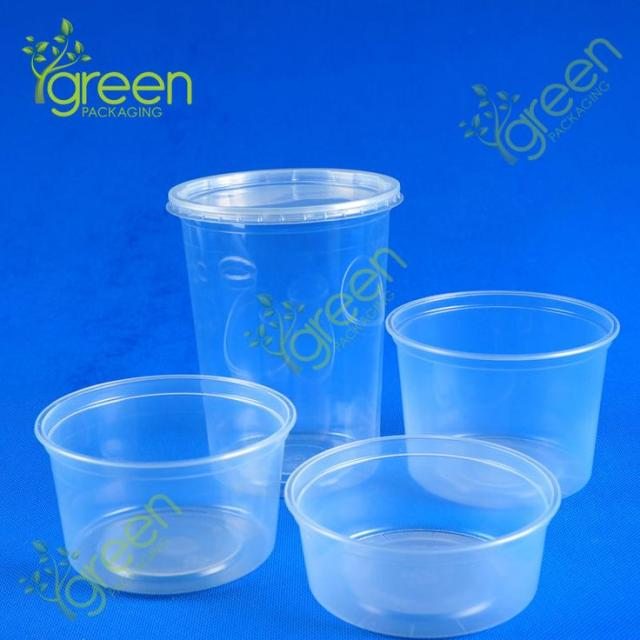GelasPlastik: (164, 166, 406, 490)
